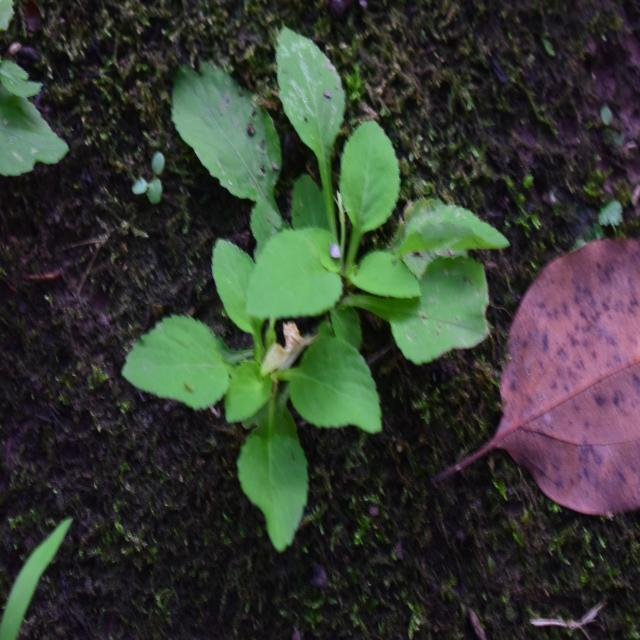Viola: (172, 73, 422, 479)
